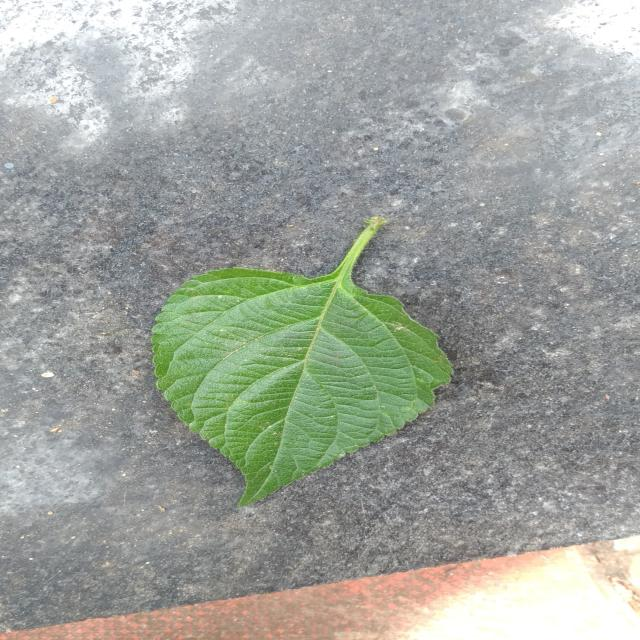Lantana: (151, 218, 451, 506)
